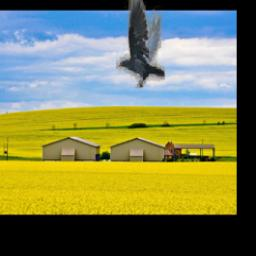Crow: (117, 0, 166, 88)
